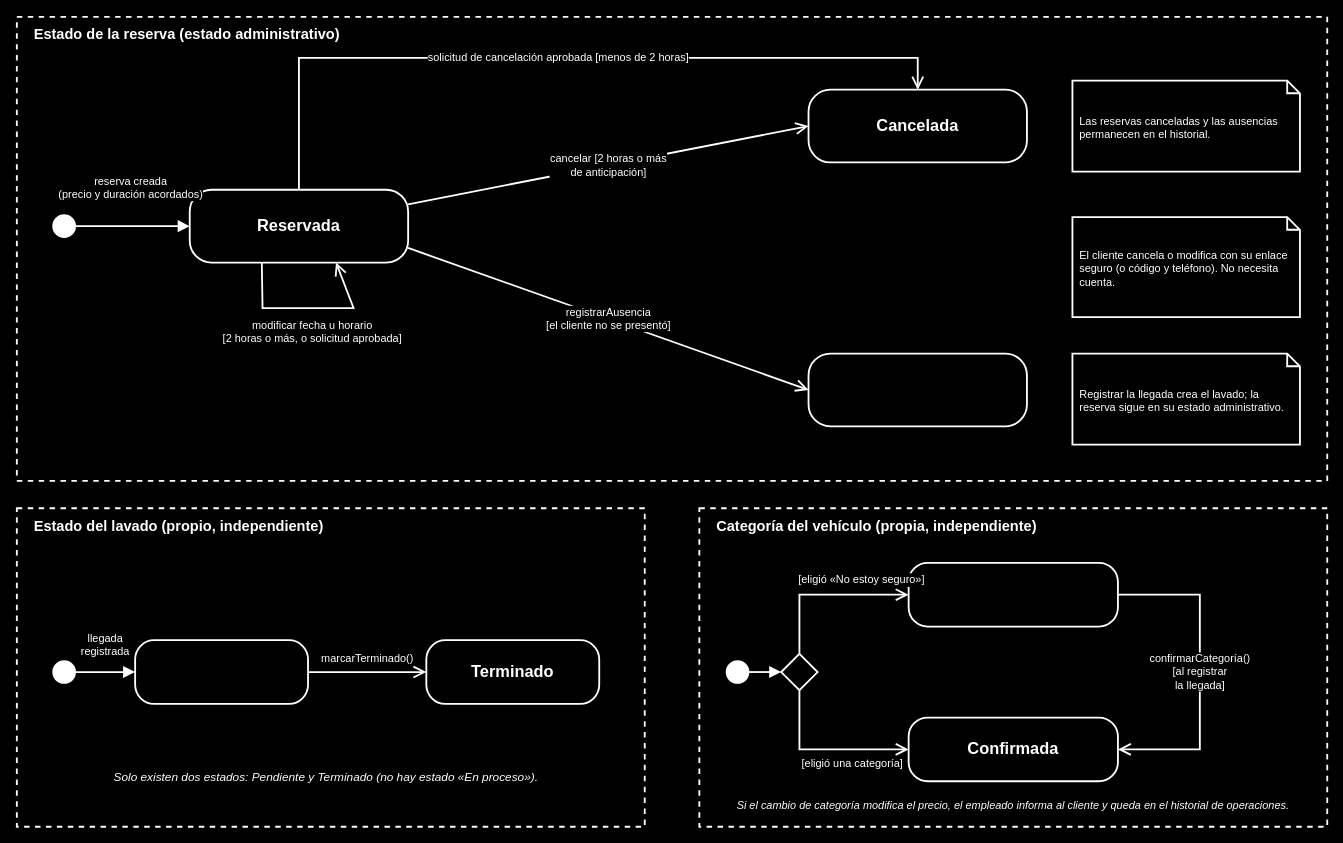
Image size: 1343x843. Some labels were removed from this diagram. Here are the shapes that lost their labels. From the top down, the centre of each, then its label:
the point at 917,389: Ausente
the point at 1012,594: A confirmar
the point at 221,671: Pendiente
